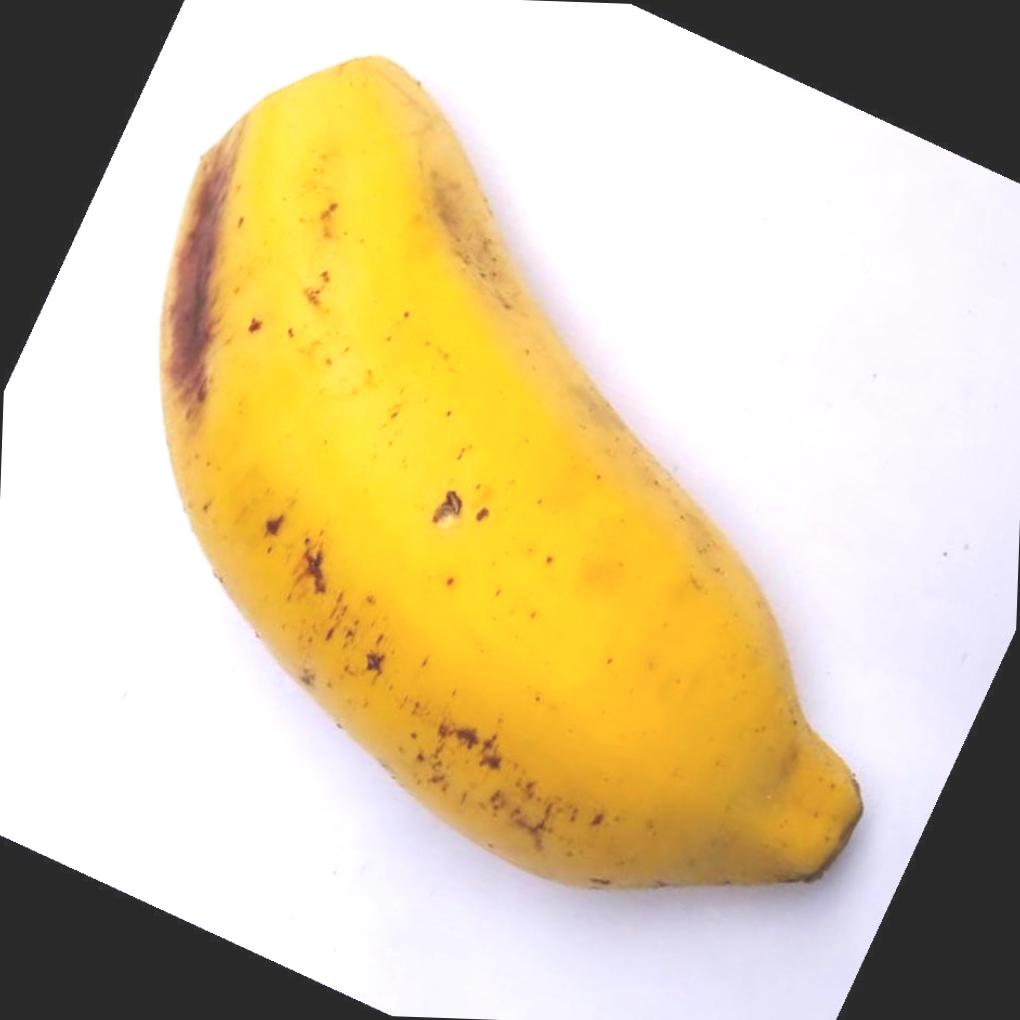Banana Ripe: (133, 39, 910, 950)
